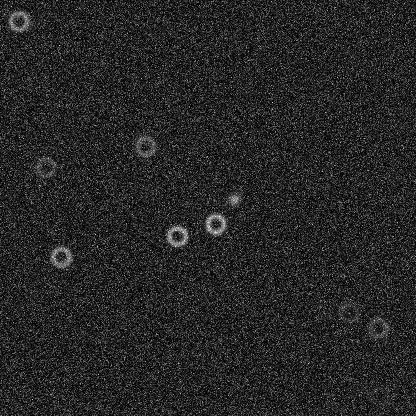Ring: (6, 9, 30, 33), (337, 300, 361, 324), (367, 383, 391, 407), (203, 211, 227, 235), (33, 154, 57, 178), (365, 315, 389, 339), (165, 223, 189, 247), (48, 244, 72, 268), (133, 134, 157, 158)
Spot: (226, 190, 242, 206)
